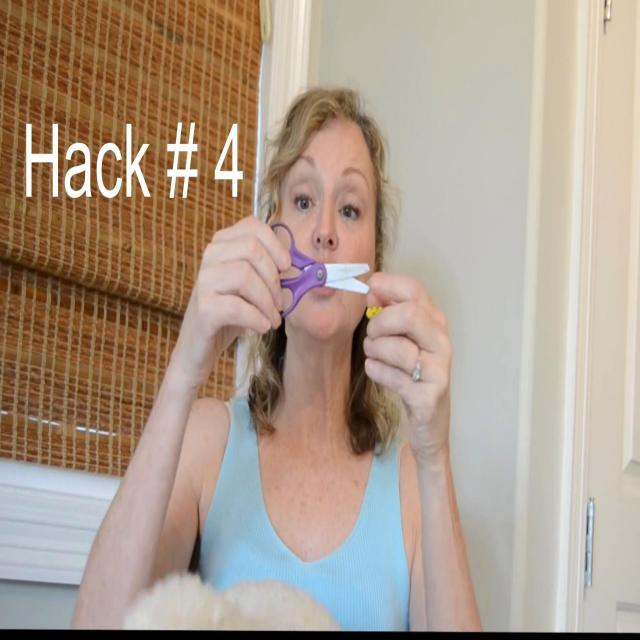scissor: (268, 222, 370, 316)
